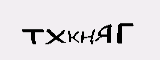Б: (93, 27, 111, 56)
И: (66, 29, 90, 56)
М: (44, 27, 64, 51)
Ч: (112, 26, 132, 50), (29, 24, 44, 47)
